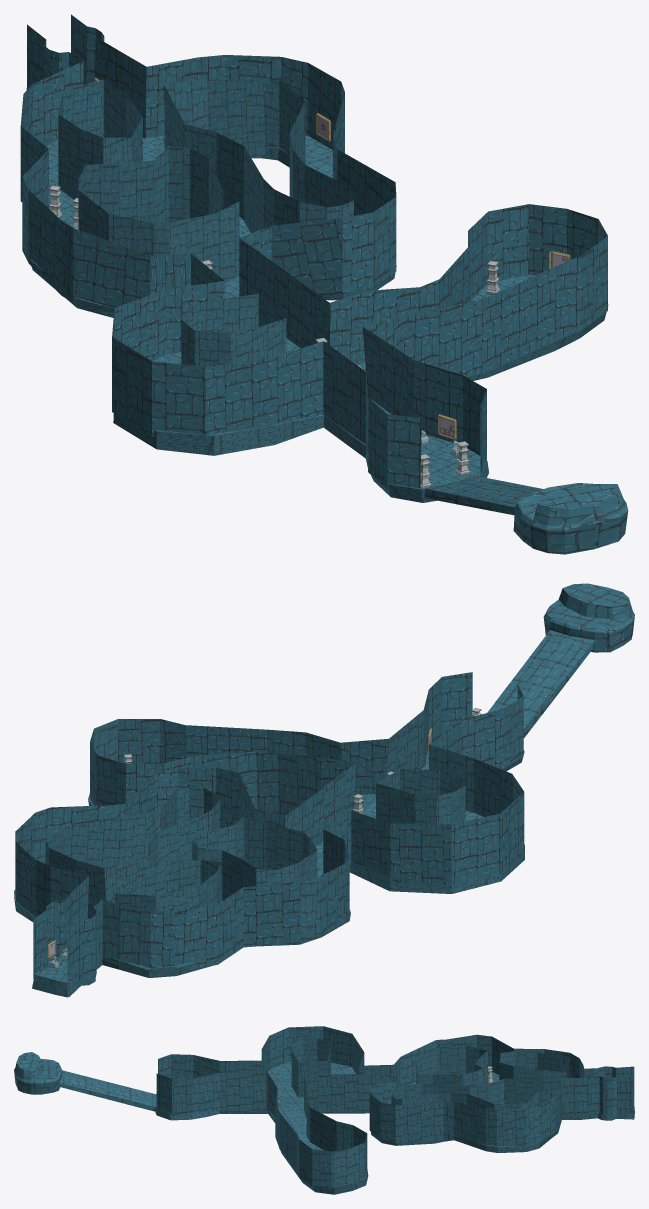
The picture shows the model from 3 angles, top to bottom: view 1: azimuth 30°, elevation 25°; view 2: azimuth 150°, elevation 25°; view 3: azimuth 270°, elevation 25°; orthographic projection. The views are drawn at different scales.
Visible parts, largest first — view 1: 外圈背景, 內圈背景, 場景, 出口, 內圈背景.001; view 2: 外圈背景, 內圈背景, 出口, 場景; view 3: 外圈背景, 內圈背景, 場景, 出口, 內圈背景.001.
Part boxes in pixels (bbox=[...]): 外圈背景: bbox=[20, 14, 607, 489]; 內圈背景: bbox=[58, 79, 353, 366]; 場景: bbox=[31, 135, 608, 502]; 出口: bbox=[424, 476, 628, 554]; 內圈背景.001: bbox=[58, 120, 305, 282]; 外圈背景: bbox=[15, 672, 524, 989]; 內圈背景: bbox=[45, 769, 465, 918]; 出口: bbox=[487, 583, 634, 738]; 場景: bbox=[14, 750, 524, 997]; 外圈背景: bbox=[156, 1026, 634, 1188]; 內圈背景: bbox=[291, 1038, 566, 1109]; 場景: bbox=[155, 1062, 634, 1194]; 出口: bbox=[14, 1052, 156, 1111]; 內圈背景.001: bbox=[291, 1058, 557, 1103].
Bounding box in the file's own units: 27540 × 6768 × 59662.
13 materials, 13 textured.
